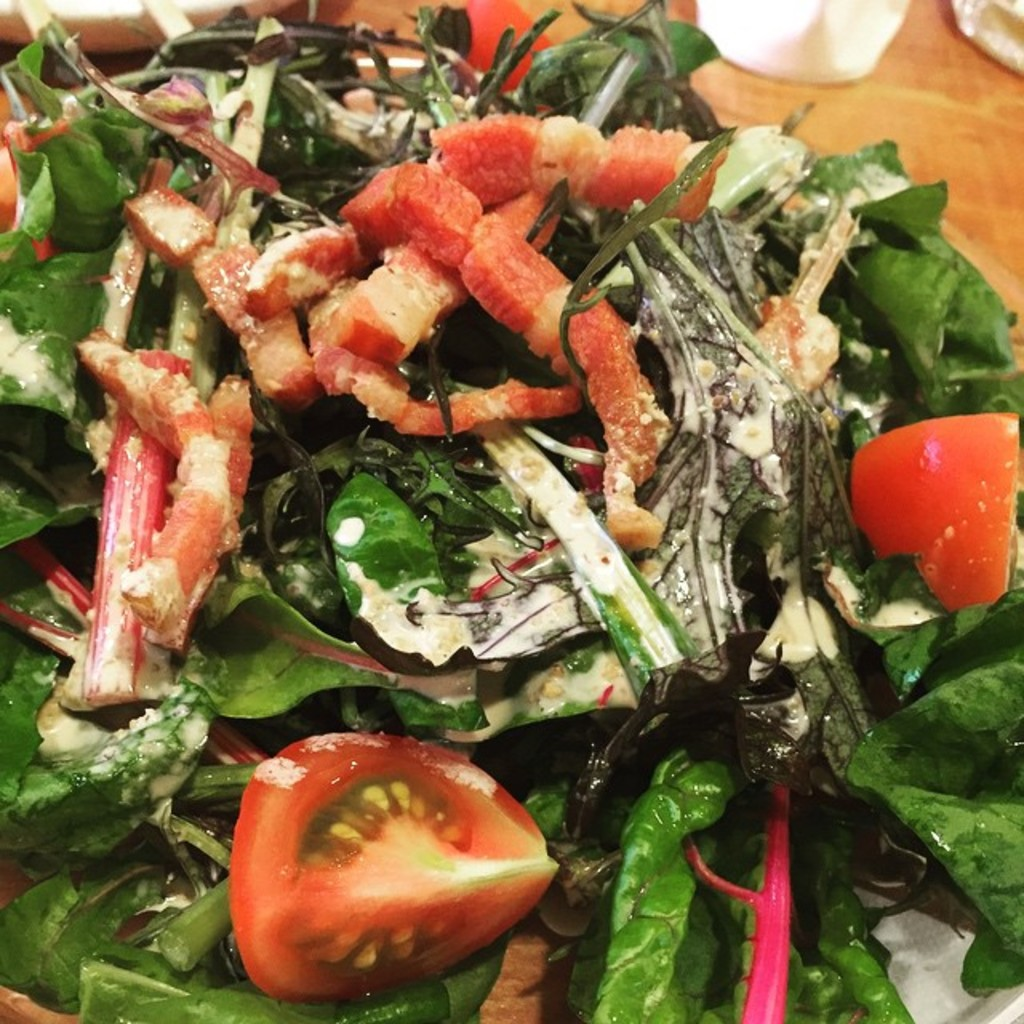Tomato: (224, 725, 559, 1005), (845, 406, 1018, 616)
